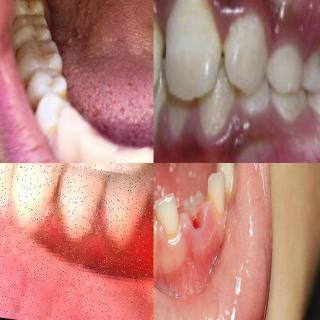Gum Swelling: (36, 201, 154, 285), (181, 200, 220, 254), (205, 0, 260, 38)
calculus: (28, 80, 76, 114)
maligned: (180, 187, 209, 231)
plaque: (201, 74, 234, 136), (274, 94, 312, 132)
stains: (158, 222, 180, 248), (209, 190, 227, 218)
